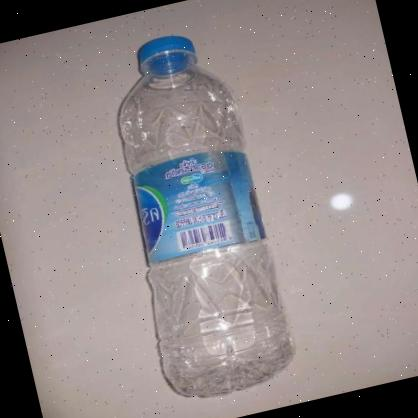bottle: (83, 21, 302, 412)
cap: (128, 31, 200, 74)
label: (124, 141, 266, 271)
